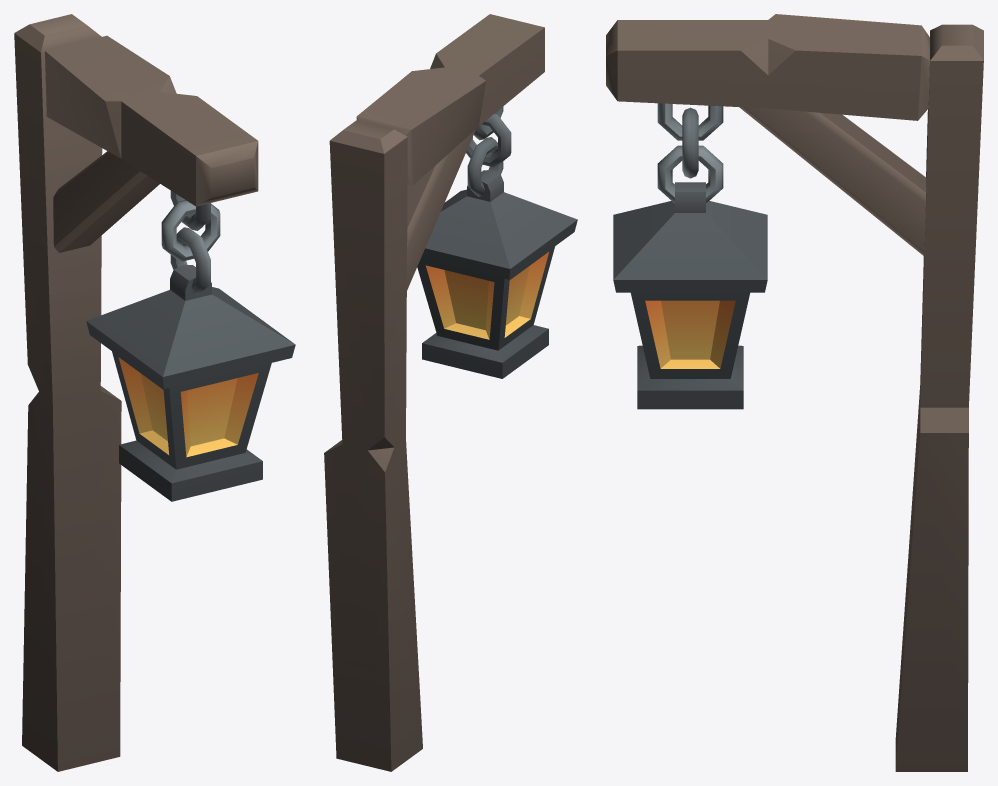
Rendered from post_lantern.glb.
The picture shows the model from 3 angles, left to right: view 1: azimuth 30°, elevation 25°; view 2: azimuth 150°, elevation 25°; view 3: azimuth 270°, elevation 25°; orthographic projection. The views are drawn at different scales.
Parts seen in each view (by area): view 1: post_lantern, post_lantern_lantern; view 2: post_lantern, post_lantern_lantern; view 3: post_lantern, post_lantern_lantern.
Boxes of the visible parts, x1,y1,x2,y2 form: post_lantern: (14, 14, 258, 771); post_lantern_lantern: (86, 191, 295, 501); post_lantern: (324, 14, 544, 771); post_lantern_lantern: (417, 106, 577, 378); post_lantern: (606, 14, 983, 771); post_lantern_lantern: (613, 103, 767, 409).
Bounding box in the file's own units: 0.64 × 3.3 × 1.57.
1 material, 1 textured.
